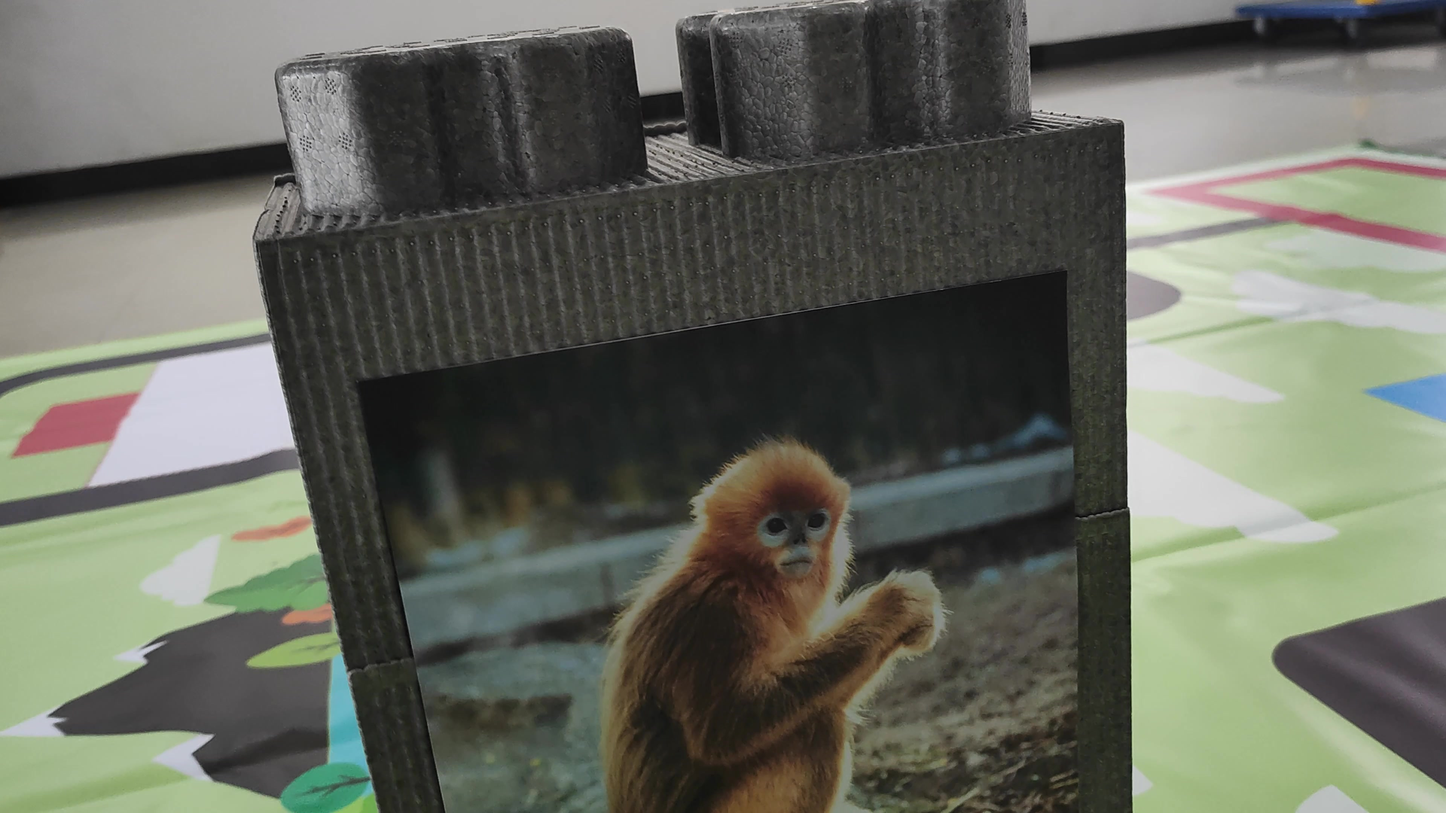monkey: (557, 414, 978, 806)
